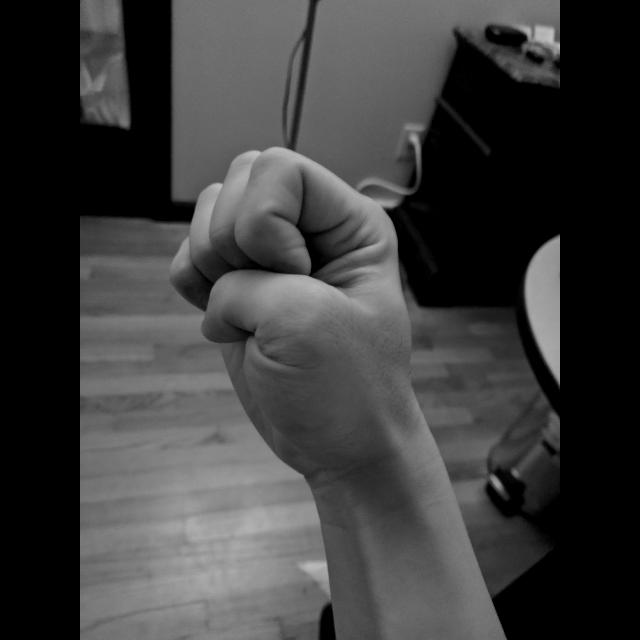E: (164, 142, 420, 484)
